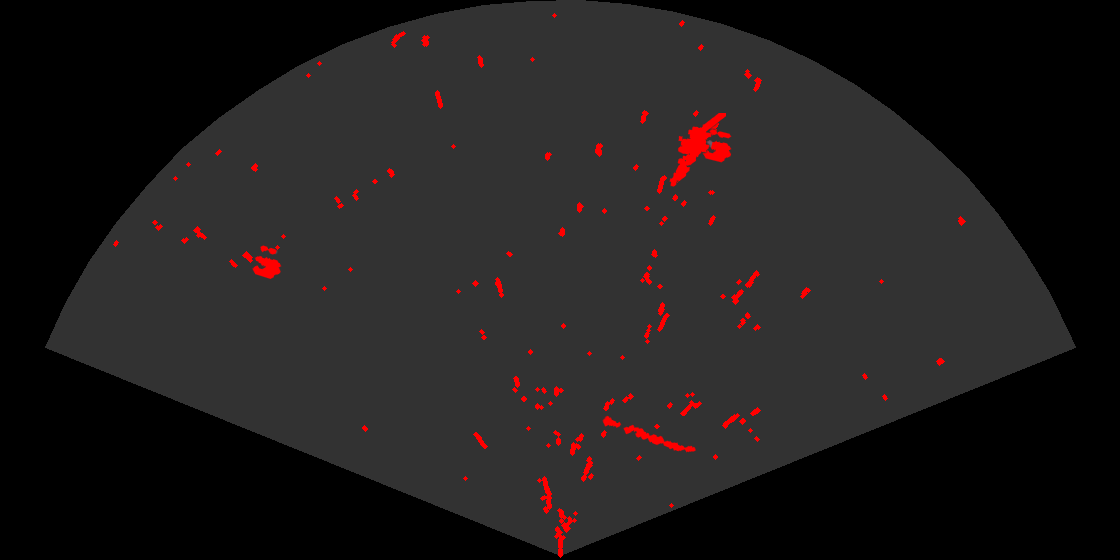ball: (251, 244, 283, 281), (701, 128, 733, 164)
chain: (600, 414, 697, 454)
frogman: (668, 113, 726, 188)
